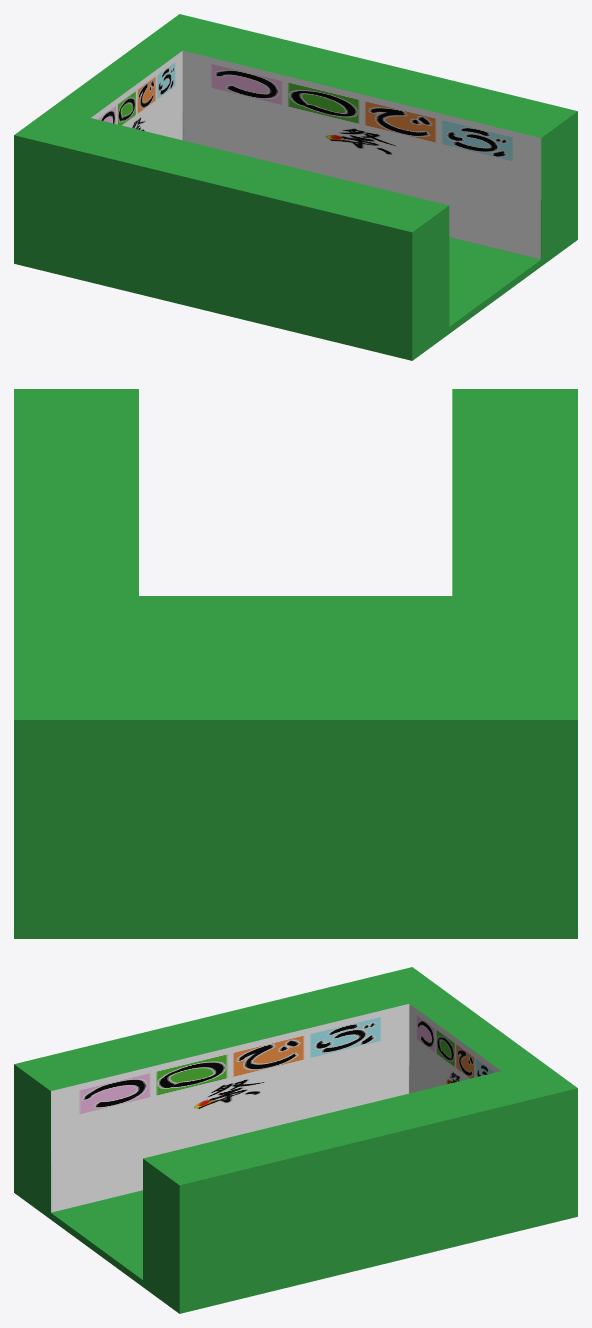
File: Goal_Wall.fbx
3 views of the same model, one above another, from view 1: azimuth 30°, elevation 25°; view 2: azimuth 150°, elevation 25°; view 3: azimuth 270°, elevation 25° (orthographic). The views are drawn at different scales.
Visible parts, largest first — view 1: pCube1; view 2: pCube1; view 3: pCube1.
Boxes of the visible parts, x1,y1,x2,y2 form: pCube1: (14, 14, 577, 360); pCube1: (14, 389, 577, 938); pCube1: (14, 967, 577, 1313).
Bounding box in the file's own units: 28.09 × 7.71 × 30.65.
1 material, 1 textured.
